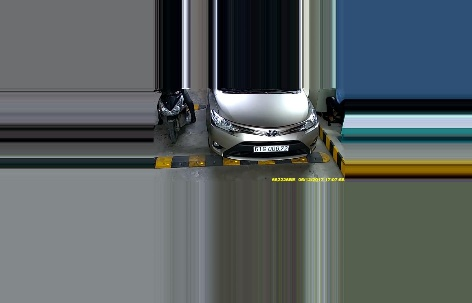plate: (250, 141, 292, 154)
